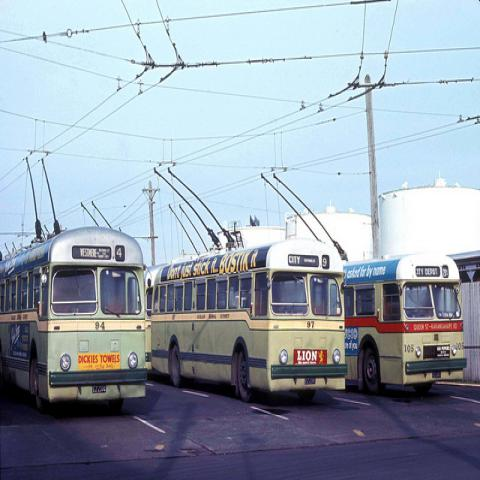bus: (150, 238, 346, 406), (1, 226, 146, 419), (342, 252, 465, 398)
